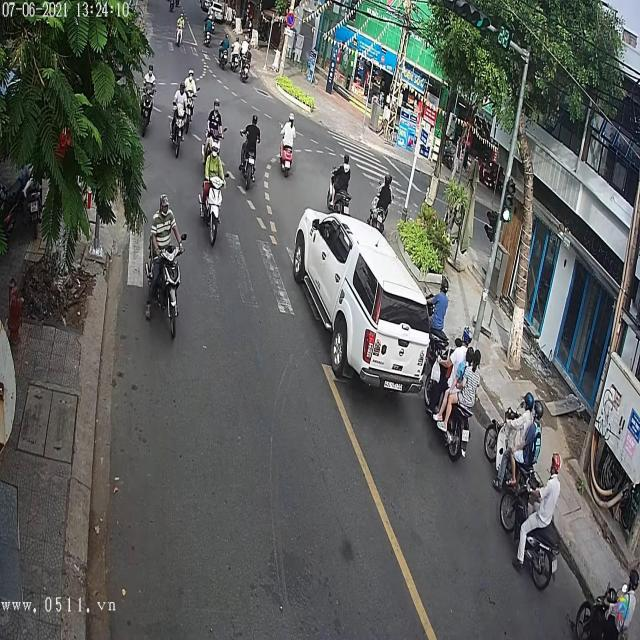car: (293, 212, 432, 392)
motorcycle: (499, 464, 562, 593), (427, 343, 471, 464), (147, 226, 186, 345), (200, 174, 226, 244), (138, 76, 159, 140), (168, 98, 188, 159), (239, 143, 259, 192), (328, 175, 353, 214), (280, 143, 294, 178)
